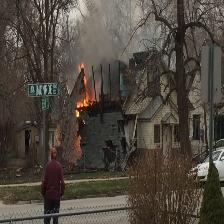fire: (78, 63, 88, 110)
smoke: (85, 22, 109, 59)
